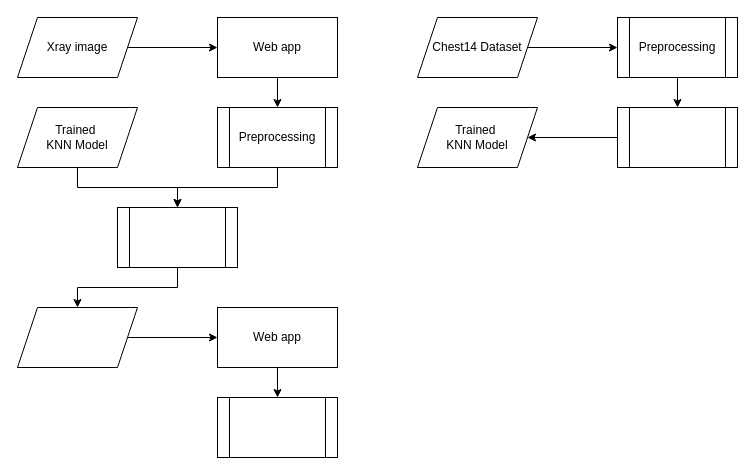
This 755x475 diagram has some shape labels left out. The centre of each missing label's shape, as x and y in pixels:
Export results: the point at 277,427
KNN Predictor: the point at 177,237
Predictions: the point at 77,337
Train KNN: the point at 677,137
